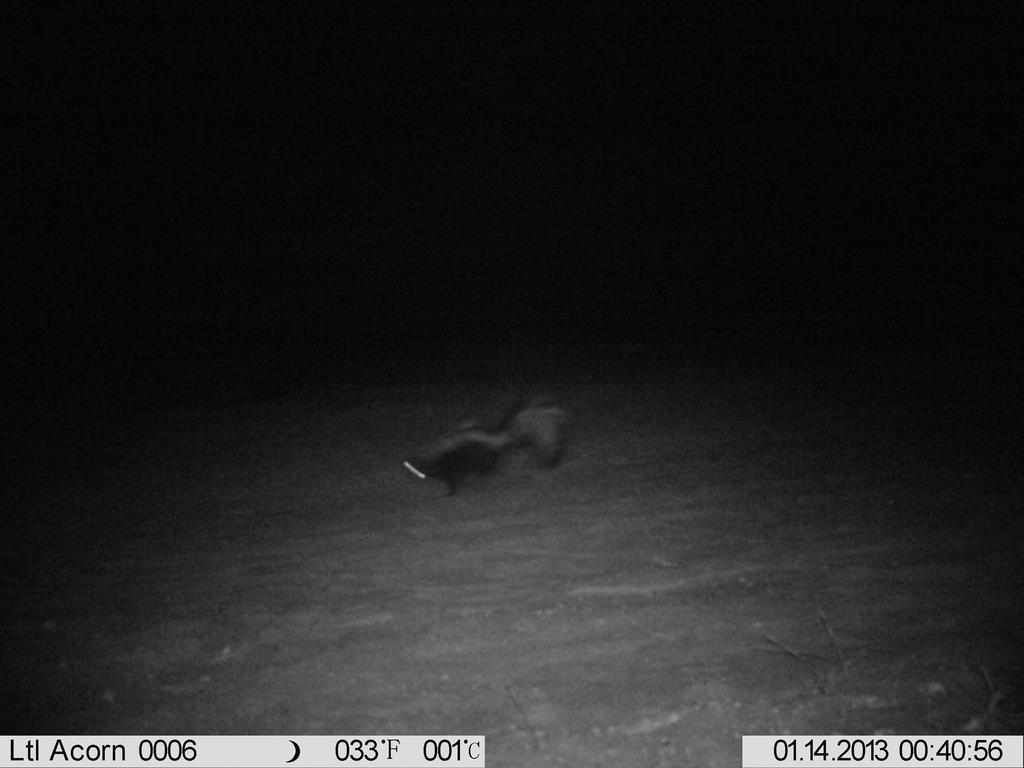skunk: (392, 389, 583, 510)
